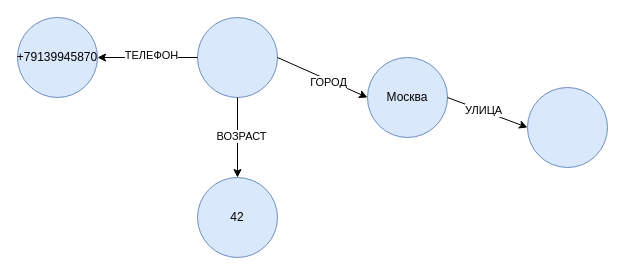
Some shapes in this 625 by 275 pixel diagram are drawn without their labels. Here are the shapes that lost their labels. From the top down, the centre of each, then its label:
point (237, 57): Иван Петров
point (567, 127): Тверская
